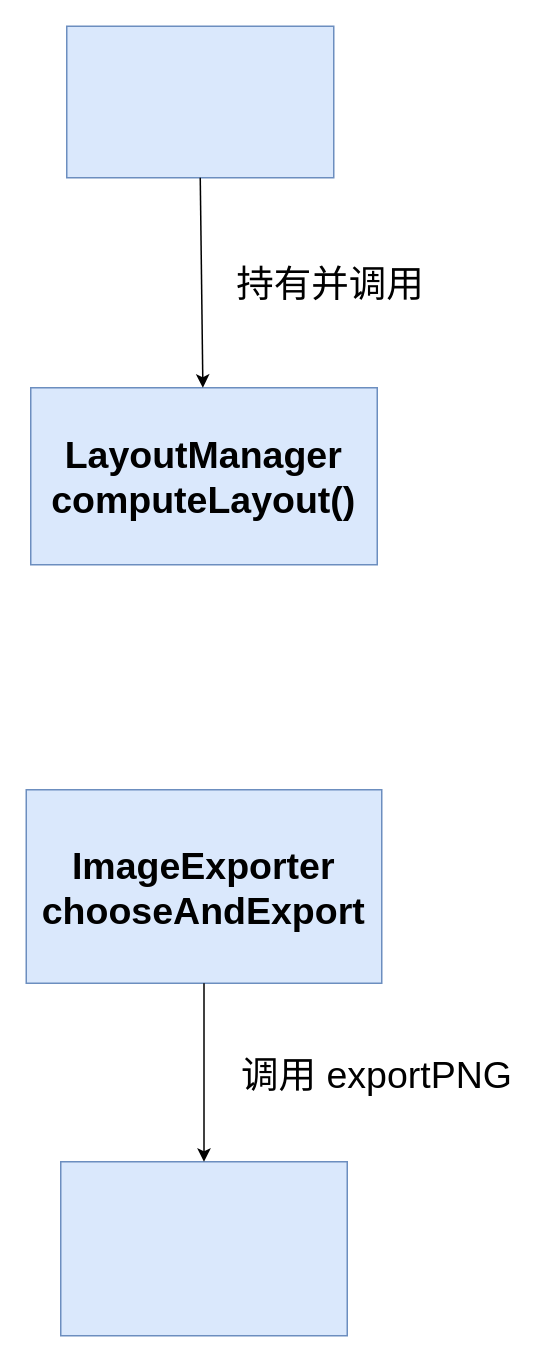
Image size: 551x1362. Some labels were removed from this diagram. Each missing label, with the centre of its shape:
GraphPanel: [203,1248]
GraphPanel （核心类）: [199,101]
